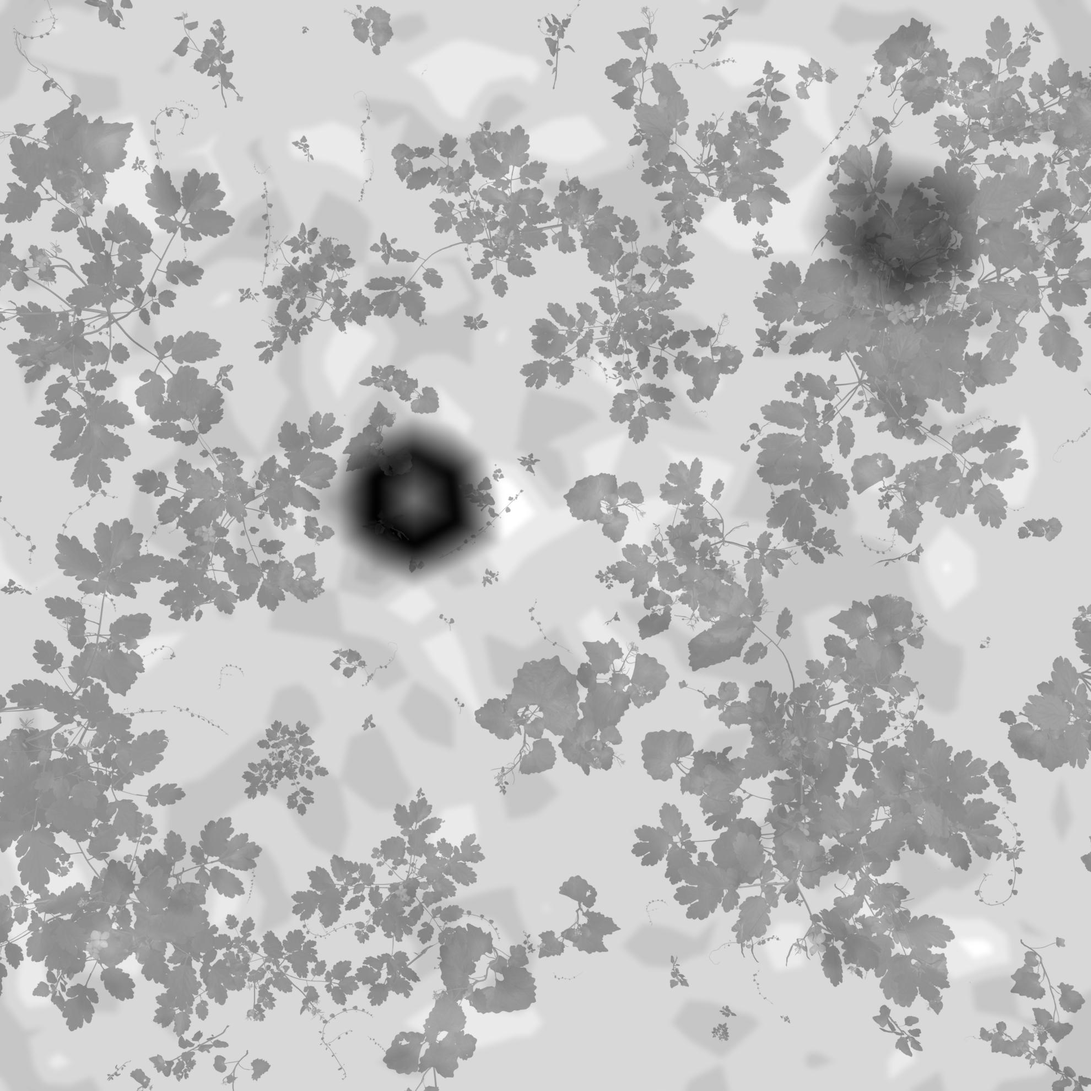landmine: (824, 149, 986, 295), (333, 433, 491, 580)
